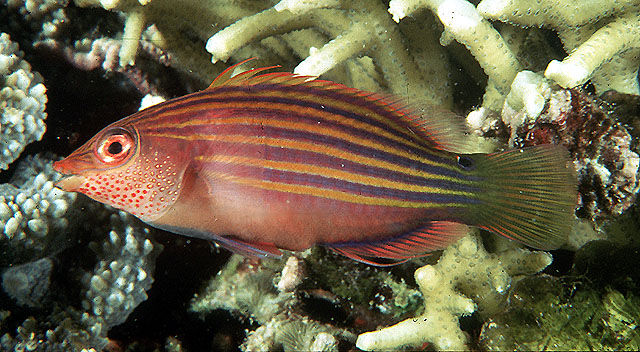fish: (51, 56, 581, 267)
